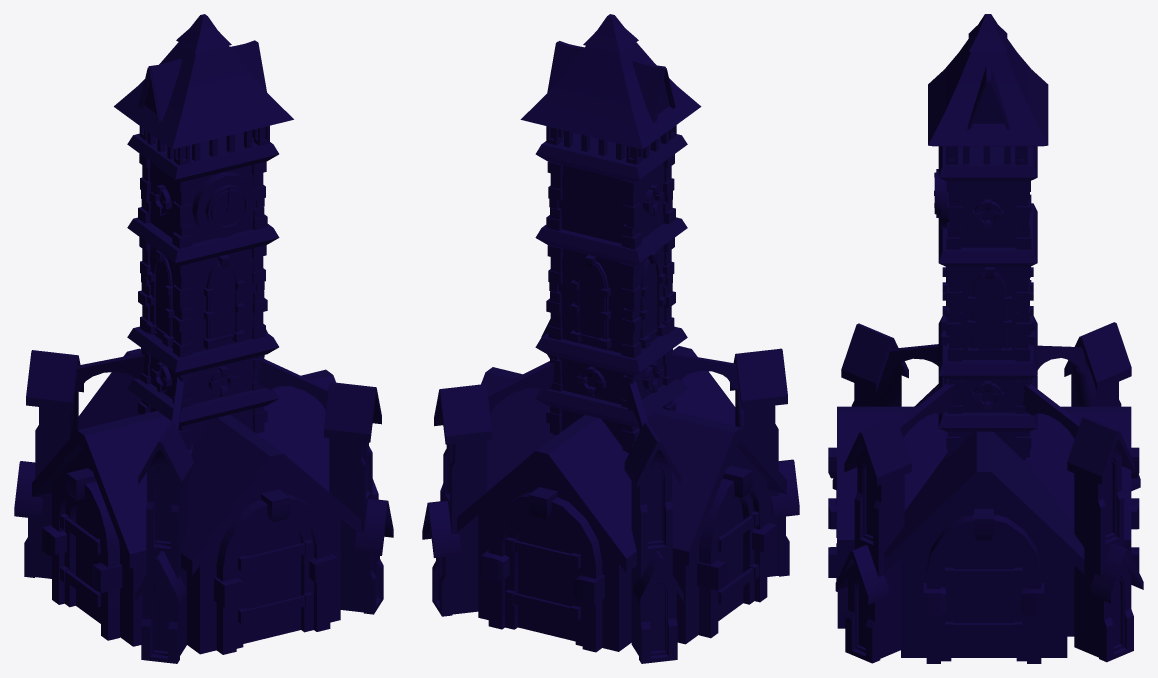
The model's file is Clock_Tower.fbx.
3 views of the same model, side by side, from view 1: azimuth 30°, elevation 25°; view 2: azimuth 150°, elevation 25°; view 3: azimuth 270°, elevation 25° (orthographic). The views are drawn at different scales.
Visible parts, largest first — view 1: Clock_Tower; view 2: Clock_Tower; view 3: Clock_Tower.
Boxes of the visible parts, x1,y1,x2,y2 form: Clock_Tower: (14,14,393,663); Clock_Tower: (422,14,799,663); Clock_Tower: (828,14,1143,663).
Size of the model in its own units: 65.64 by 134 by 65.36.
